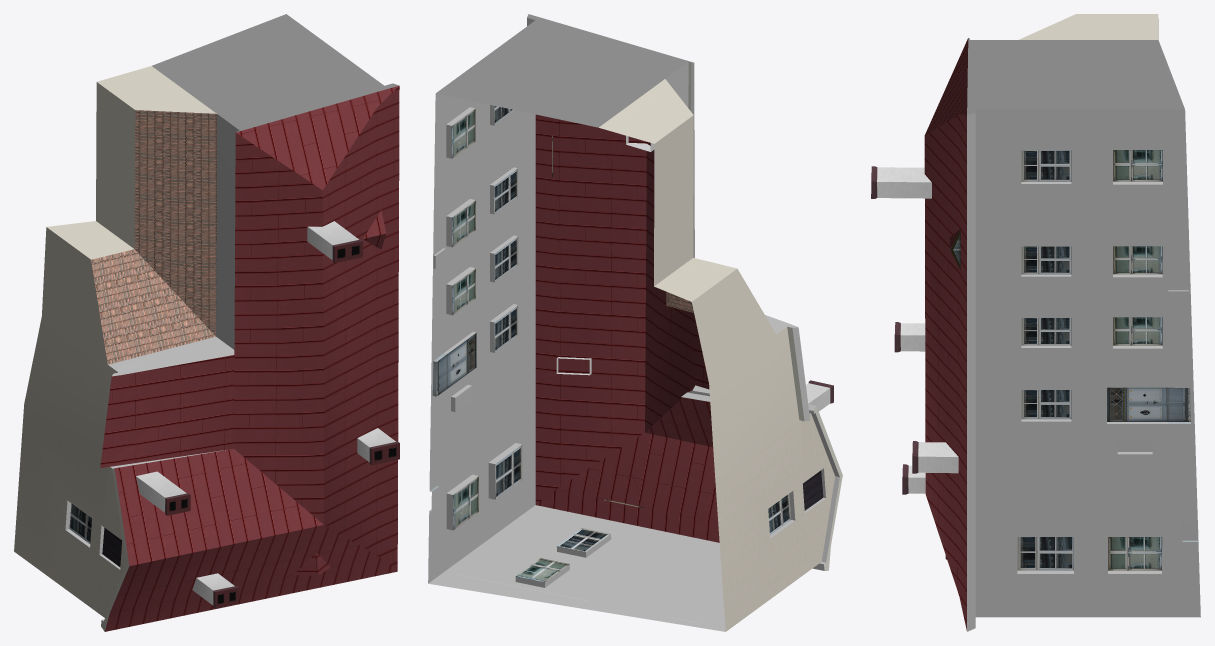
The model's file is Piiskopi_3.obj.
The picture shows the model from 3 angles, left to right: view 1: azimuth 30°, elevation 25°; view 2: azimuth 150°, elevation 25°; view 3: azimuth 270°, elevation 25°; orthographic projection. The views are drawn at different scales.
Parts seen in each view (by area): view 1: Piiskopi_3; view 2: Piiskopi_3; view 3: Piiskopi_3.
Part boxes in pixels (bbox=[...]): Piiskopi_3: bbox=[14, 14, 399, 631]; Piiskopi_3: bbox=[428, 14, 842, 631]; Piiskopi_3: bbox=[871, 14, 1200, 631].
Bounding box in the file's own units: 14.33 × 22.56 × 13.01.
